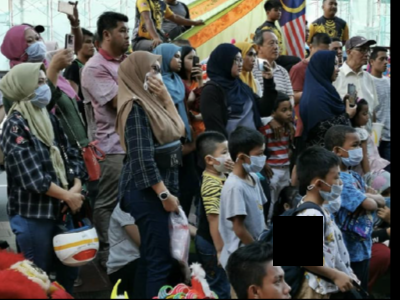mask_weared_incorrect: (319, 170, 343, 201)
with_mask: (31, 75, 51, 109), (341, 138, 364, 167), (25, 32, 46, 59), (247, 146, 266, 173), (215, 145, 232, 171), (149, 62, 161, 91)
without_mask: (259, 271, 293, 298), (111, 24, 129, 51), (353, 44, 372, 65), (276, 102, 293, 122), (263, 37, 279, 58), (244, 49, 257, 71), (80, 37, 94, 56), (231, 53, 243, 75), (374, 54, 388, 72), (358, 107, 371, 125), (184, 52, 197, 69), (331, 44, 344, 60), (331, 58, 340, 80), (171, 52, 182, 70), (270, 5, 282, 20), (268, 8, 282, 20)
